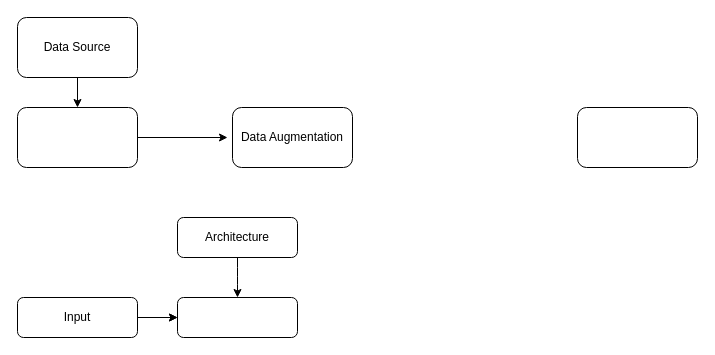
Some shapes in this 715 by 355 pixel diagram are drawn without their labels. The centre of each missing label's shape, as x and y in pixels:
Data Transformation: the point at 77,137
Generator Class: the point at 237,317
